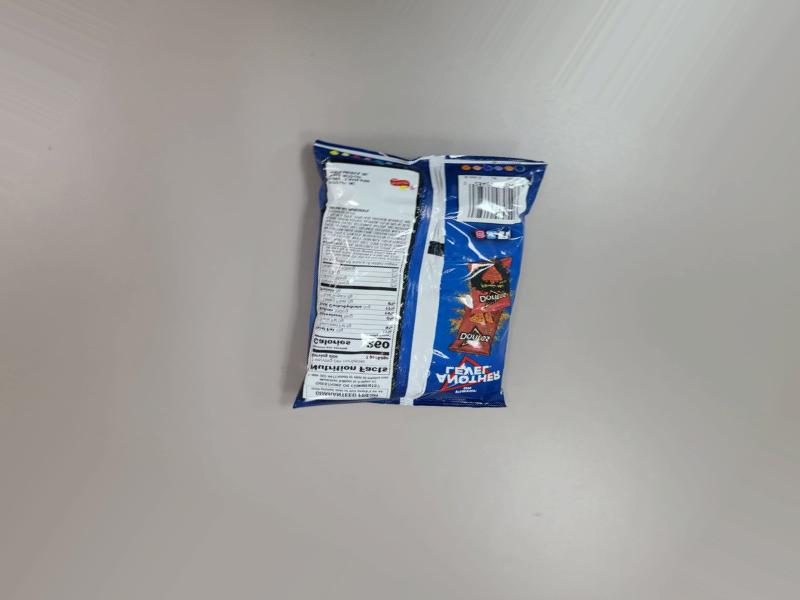doritos: (293, 164, 555, 396)
